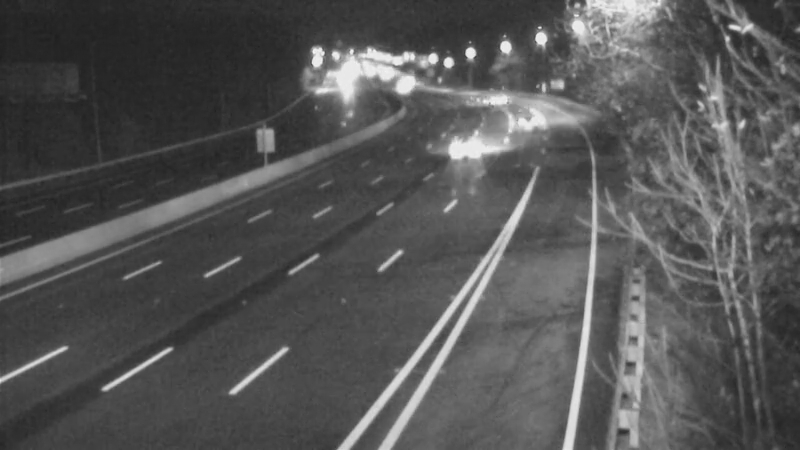vehicle: (475, 74, 525, 124), (501, 94, 551, 144), (444, 121, 494, 171)
